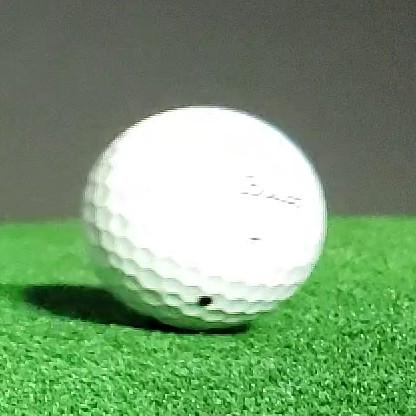golfball: (83, 107, 327, 331)
